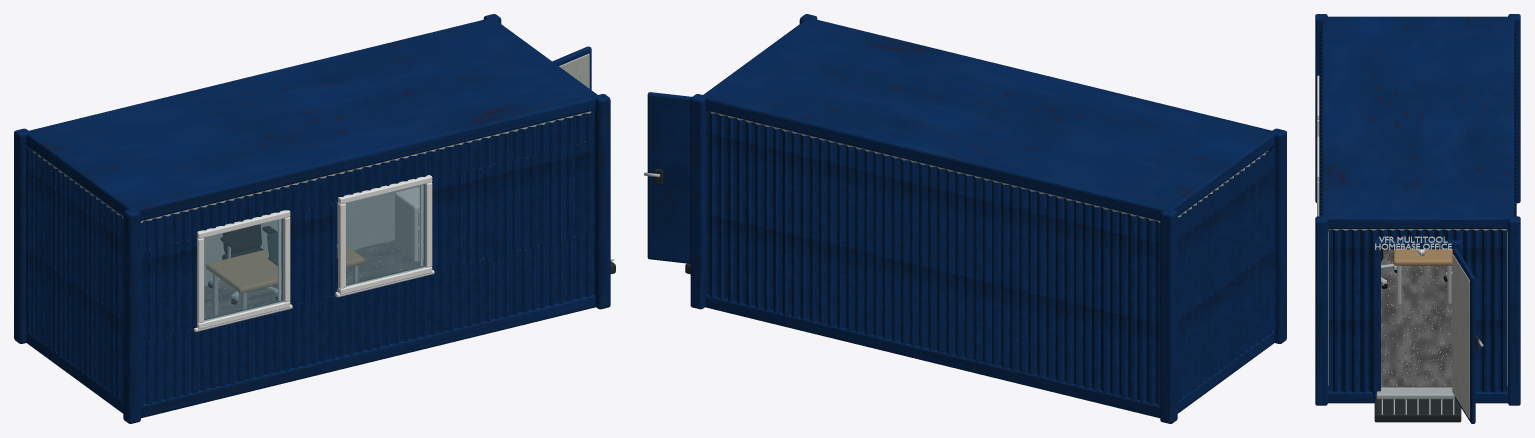
The model's file is HomebaseOfficeContainer_LOD00.gltf.
The picture shows the model from 3 angles, left to right: view 1: azimuth 30°, elevation 25°; view 2: azimuth 150°, elevation 25°; view 3: azimuth 270°, elevation 25°; orthographic projection. The views are drawn at different scales.
Visible parts, largest first — view 1: OfficeContainerRoof, OfficeContainerExteriorWindowWall01, OfficeContainerExteriorLeftEnd, OfficeContainerExteriorWindowWall05, OfficeContainerExteriorWindowWall02, OfficeContainerFloorFrame, OfficeContainerWindowLeftTintedGlass, OfficeContainerWindowRightTintedGlass, OfficeContainerExteriorWindowWall03, OfficeContainerExteriorWindowWall04, OfficeContainerCorner11Post, OfficeContainerCorner21Post (+16 smaller); view 2: OfficeContainerExteriorFarWall, OfficeContainerRoof, OfficeContainerExteriorLeftEnd, OfficeContainerFloorFrame, OfficeContainerDoorPanel, OfficeContainerCorner12Post, OfficeContainerCorner22Post, OfficeContainerCorner11Post, OfficeContainerInteriorFarWall; view 3: OfficeContainerRoof, OfficeContainerInteriorFloor, OfficeContainerExteriorDoorEnd01, OfficeContainerExteriorDoorEnd02, OfficeContainerDoorInnerPanel, OfficeContainerCorner21Post, OfficeContainerCorner22Post, OfficeContainerEntryStep, OfficeContainerDoorFrameNear, OfficeContainerDoorPanel, OfficeContainerCorner12Post, OfficeContainerDoorThreshold (+8 smaller).
Boxes of the visible parts, x1=… form: OfficeContainerRoof: x1=26, y1=18, x2=598, y2=220; OfficeContainerExteriorWindowWall01: x1=141, y1=232, x2=594, y2=406; OfficeContainerExteriorLeftEnd: x1=26, y1=147, x2=123, y2=402; OfficeContainerExteriorWindowWall05: x1=432, y1=139, x2=594, y2=271; OfficeContainerExteriorWindowWall02: x1=141, y1=111, x2=594, y2=251; OfficeContainerFloorFrame: x1=26, y1=294, x2=595, y2=418; OfficeContainerWindowLeftTintedGlass: x1=204, y1=218, x2=284, y2=321; OfficeContainerWindowRightTintedGlass: x1=345, y1=184, x2=425, y2=286; OfficeContainerExteriorWindowWall03: x1=141, y1=237, x2=197, y2=343; OfficeContainerExteriorWindowWall04: x1=290, y1=202, x2=337, y2=305; OfficeContainerCorner11Post: x1=123, y1=209, x2=140, y2=423; OfficeContainerCorner21Post: x1=594, y1=94, x2=610, y2=309; OfficeContainerExteriorFarWall: x1=706, y1=111, x2=1160, y2=406; OfficeContainerRoof: x1=703, y1=18, x2=1274, y2=220; OfficeContainerExteriorLeftEnd: x1=1177, y1=147, x2=1275, y2=400; OfficeContainerFloorFrame: x1=705, y1=294, x2=1274, y2=418; OfficeContainerDoorPanel: x1=647, y1=92, x2=691, y2=263; OfficeContainerCorner12Post: x1=1160, y1=209, x2=1177, y2=423; OfficeContainerCorner22Post: x1=690, y1=94, x2=706, y2=309; OfficeContainerCorner11Post: x1=1269, y1=128, x2=1286, y2=343; OfficeContainerInteriorFarWall: x1=711, y1=112, x2=1160, y2=222; OfficeContainerRoof: x1=1321, y1=16, x2=1514, y2=228; OfficeContainerInteriorFloor: x1=1381, y1=249, x2=1452, y2=387; OfficeContainerExteriorDoorEnd01: x1=1328, y1=229, x2=1379, y2=392; OfficeContainerExteriorDoorEnd02: x1=1456, y1=229, x2=1507, y2=392; OfficeContainerDoorInnerPanel: x1=1452, y1=254, x2=1469, y2=418; OfficeContainerCorner21Post: x1=1315, y1=216, x2=1327, y2=405; OfficeContainerCorner22Post: x1=1508, y1=216, x2=1520, y2=405; OfficeContainerEntryStep: x1=1374, y1=399, x2=1461, y2=422; OfficeContainerDoorFrameNear: x1=1373, y1=244, x2=1380, y2=397; OfficeContainerDoorPanel: x1=1452, y1=248, x2=1475, y2=423; OfficeContainerCorner12Post: x1=1508, y1=14, x2=1520, y2=203; OfficeContainerDoorThreshold: x1=1376, y1=387, x2=1455, y2=399.
Bounding box in the file's own units: 7.11 × 2.59 × 2.6.
15 materials, 5 textured.
